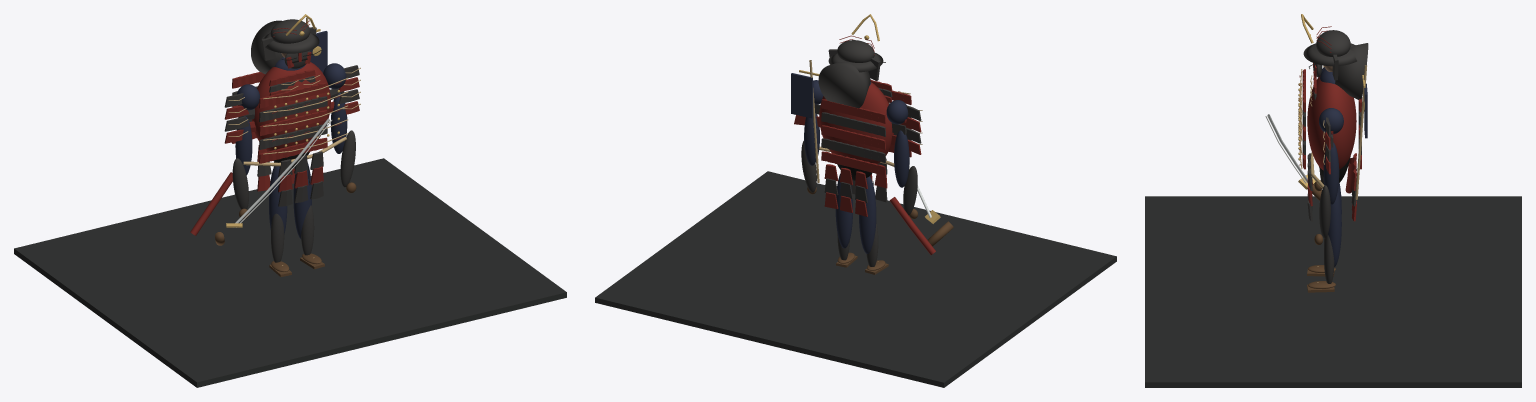
File: actor-takeda-05.glb
3 renders of one model, left to right at view 1: azimuth 30°, elevation 25°; view 2: azimuth 150°, elevation 25°; view 3: azimuth 270°, elevation 25°, orthographic. The views are drawn at different scales.
Visible parts, largest first — view 1: matte charcoal inspection plinth, rounded do cuirass silhouette, rear shikoro neck guard flare, segmented kabuto helmet bowl, right armored upper arm, right kote forearm guard, left kote forearm guard, wide kabuto brim, left hakama trouser leg, right hakama trouser leg, left armored upper arm, left shin greave (+2 smaller); view 2: matte charcoal inspection plinth, rear shikoro neck guard flare, rounded do cuirass silhouette, cloth sashimono banner panel, left hakama trouser leg, left armored upper arm, segmented kabuto helmet bowl, right hakama trouser leg, right armored upper arm, left kote forearm guard, lacquered saya scabbard at left hip, right kote forearm guard; view 3: matte charcoal inspection plinth, rounded do cuirass silhouette, rear shikoro neck guard flare, segmented kabuto helmet bowl, right hakama trouser leg, wide kabuto brim, right armored upper arm, right kote forearm guard, right shoulder undercloth, right shin greave, bamboo sashimono back pole.
Boxes of the visible parts, <box> form: matte charcoal inspection plinth: <box>14,158,566,387</box>; rounded do cuirass silhouette: <box>252,62,330,151</box>; rear shikoro neck guard flare: <box>251,20,283,74</box>; segmented kabuto helmet bowl: <box>270,19,310,43</box>; right armored upper arm: <box>330,93,347,153</box>; right kote forearm guard: <box>340,130,355,187</box>; left kote forearm guard: <box>232,158,248,209</box>; wide kabuto brim: <box>261,33,319,53</box>; left hakama trouser leg: <box>269,166,287,234</box>; right hakama trouser leg: <box>293,163,311,239</box>; left armored upper arm: <box>235,116,252,175</box>; left shin greave: <box>271,213,284,262</box>; matte charcoal inspection plinth: <box>595,171,1116,387</box>; rear shikoro neck guard flare: <box>818,61,870,108</box>; rounded do cuirass silhouette: <box>819,82,893,164</box>; cloth sashimono banner panel: <box>791,73,813,118</box>; left hakama trouser leg: <box>859,176,876,253</box>; left armored upper arm: <box>894,130,909,187</box>; segmented kabuto helmet bowl: <box>837,40,874,62</box>; right hakama trouser leg: <box>835,173,852,248</box>; right armored upper arm: <box>804,113,819,165</box>; left kote forearm guard: <box>903,166,917,215</box>; lacquered saya scabbard at left hip: <box>889,197,935,254</box>; right kote forearm guard: <box>801,140,816,192</box>; matte charcoal inspection plinth: <box>1145,196,1521,387</box>; rounded do cuirass silhouette: <box>1307,76,1356,170</box>; rear shikoro neck guard flare: <box>1335,43,1368,99</box>; segmented kabuto helmet bowl: <box>1316,30,1350,56</box>; right hakama trouser leg: <box>1328,189,1341,267</box>; wide kabuto brim: <box>1303,43,1356,66</box>; right armored upper arm: <box>1323,142,1339,204</box>; right kote forearm guard: <box>1319,185,1330,238</box>; right shoulder undercloth: <box>1319,108,1343,134</box>; right shin greave: <box>1324,235,1334,283</box>; bamboo sashimono back pole: <box>1355,65,1366,199</box>.
Size of the model in its own units: 4.2 by 2.96 by 3.6.
